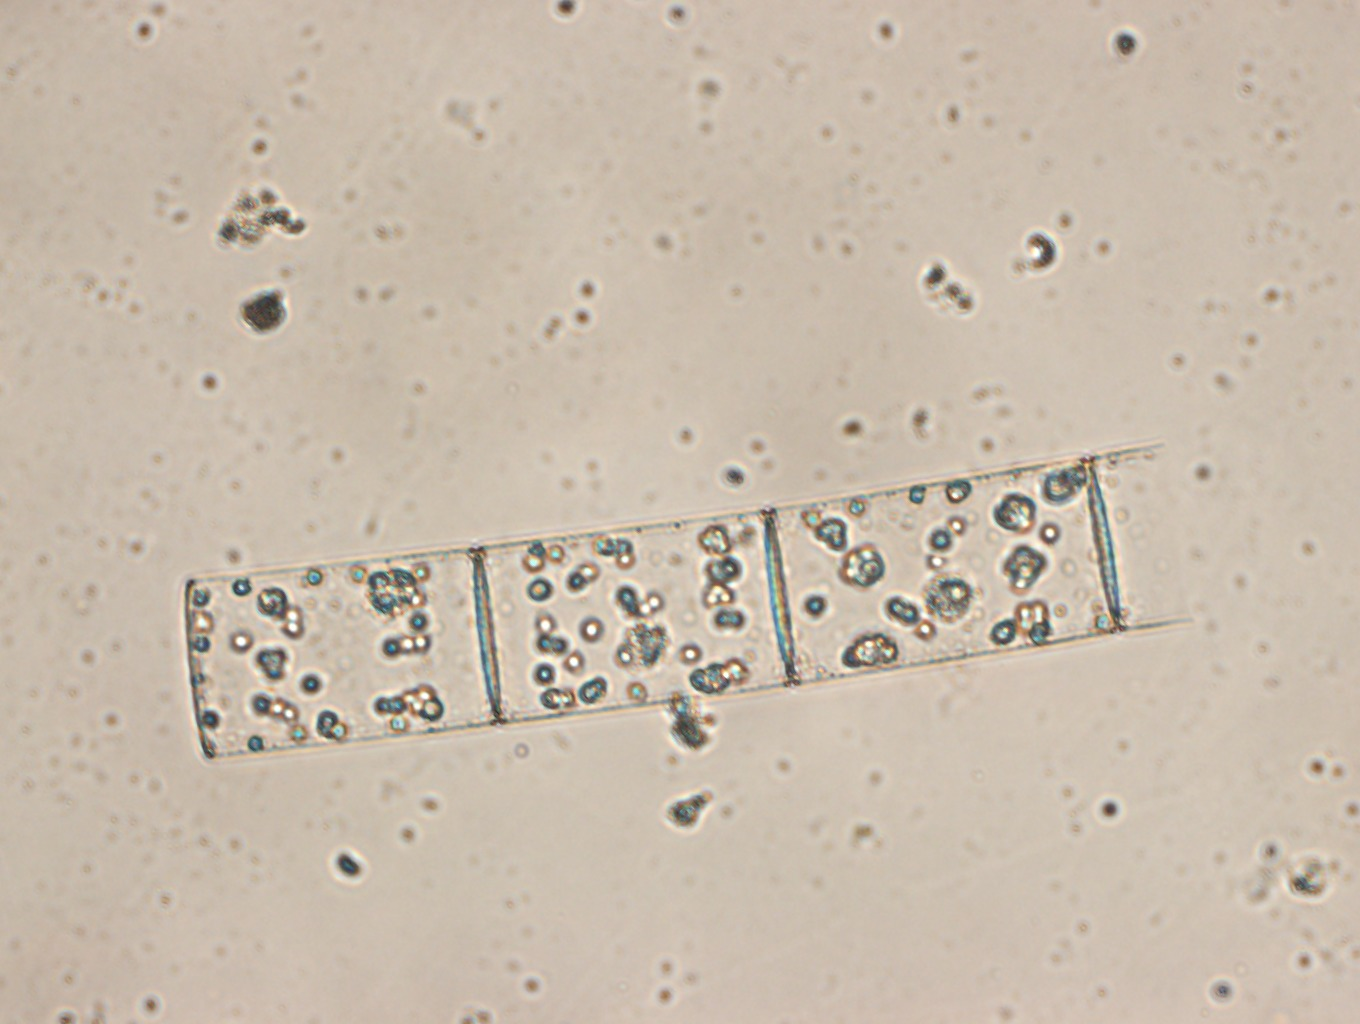guinardia flaccida: (182, 443, 1166, 758)
